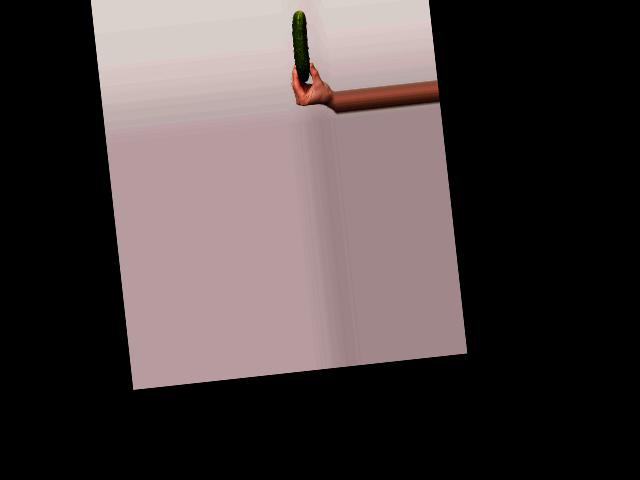cucumber: (289, 10, 311, 82)
